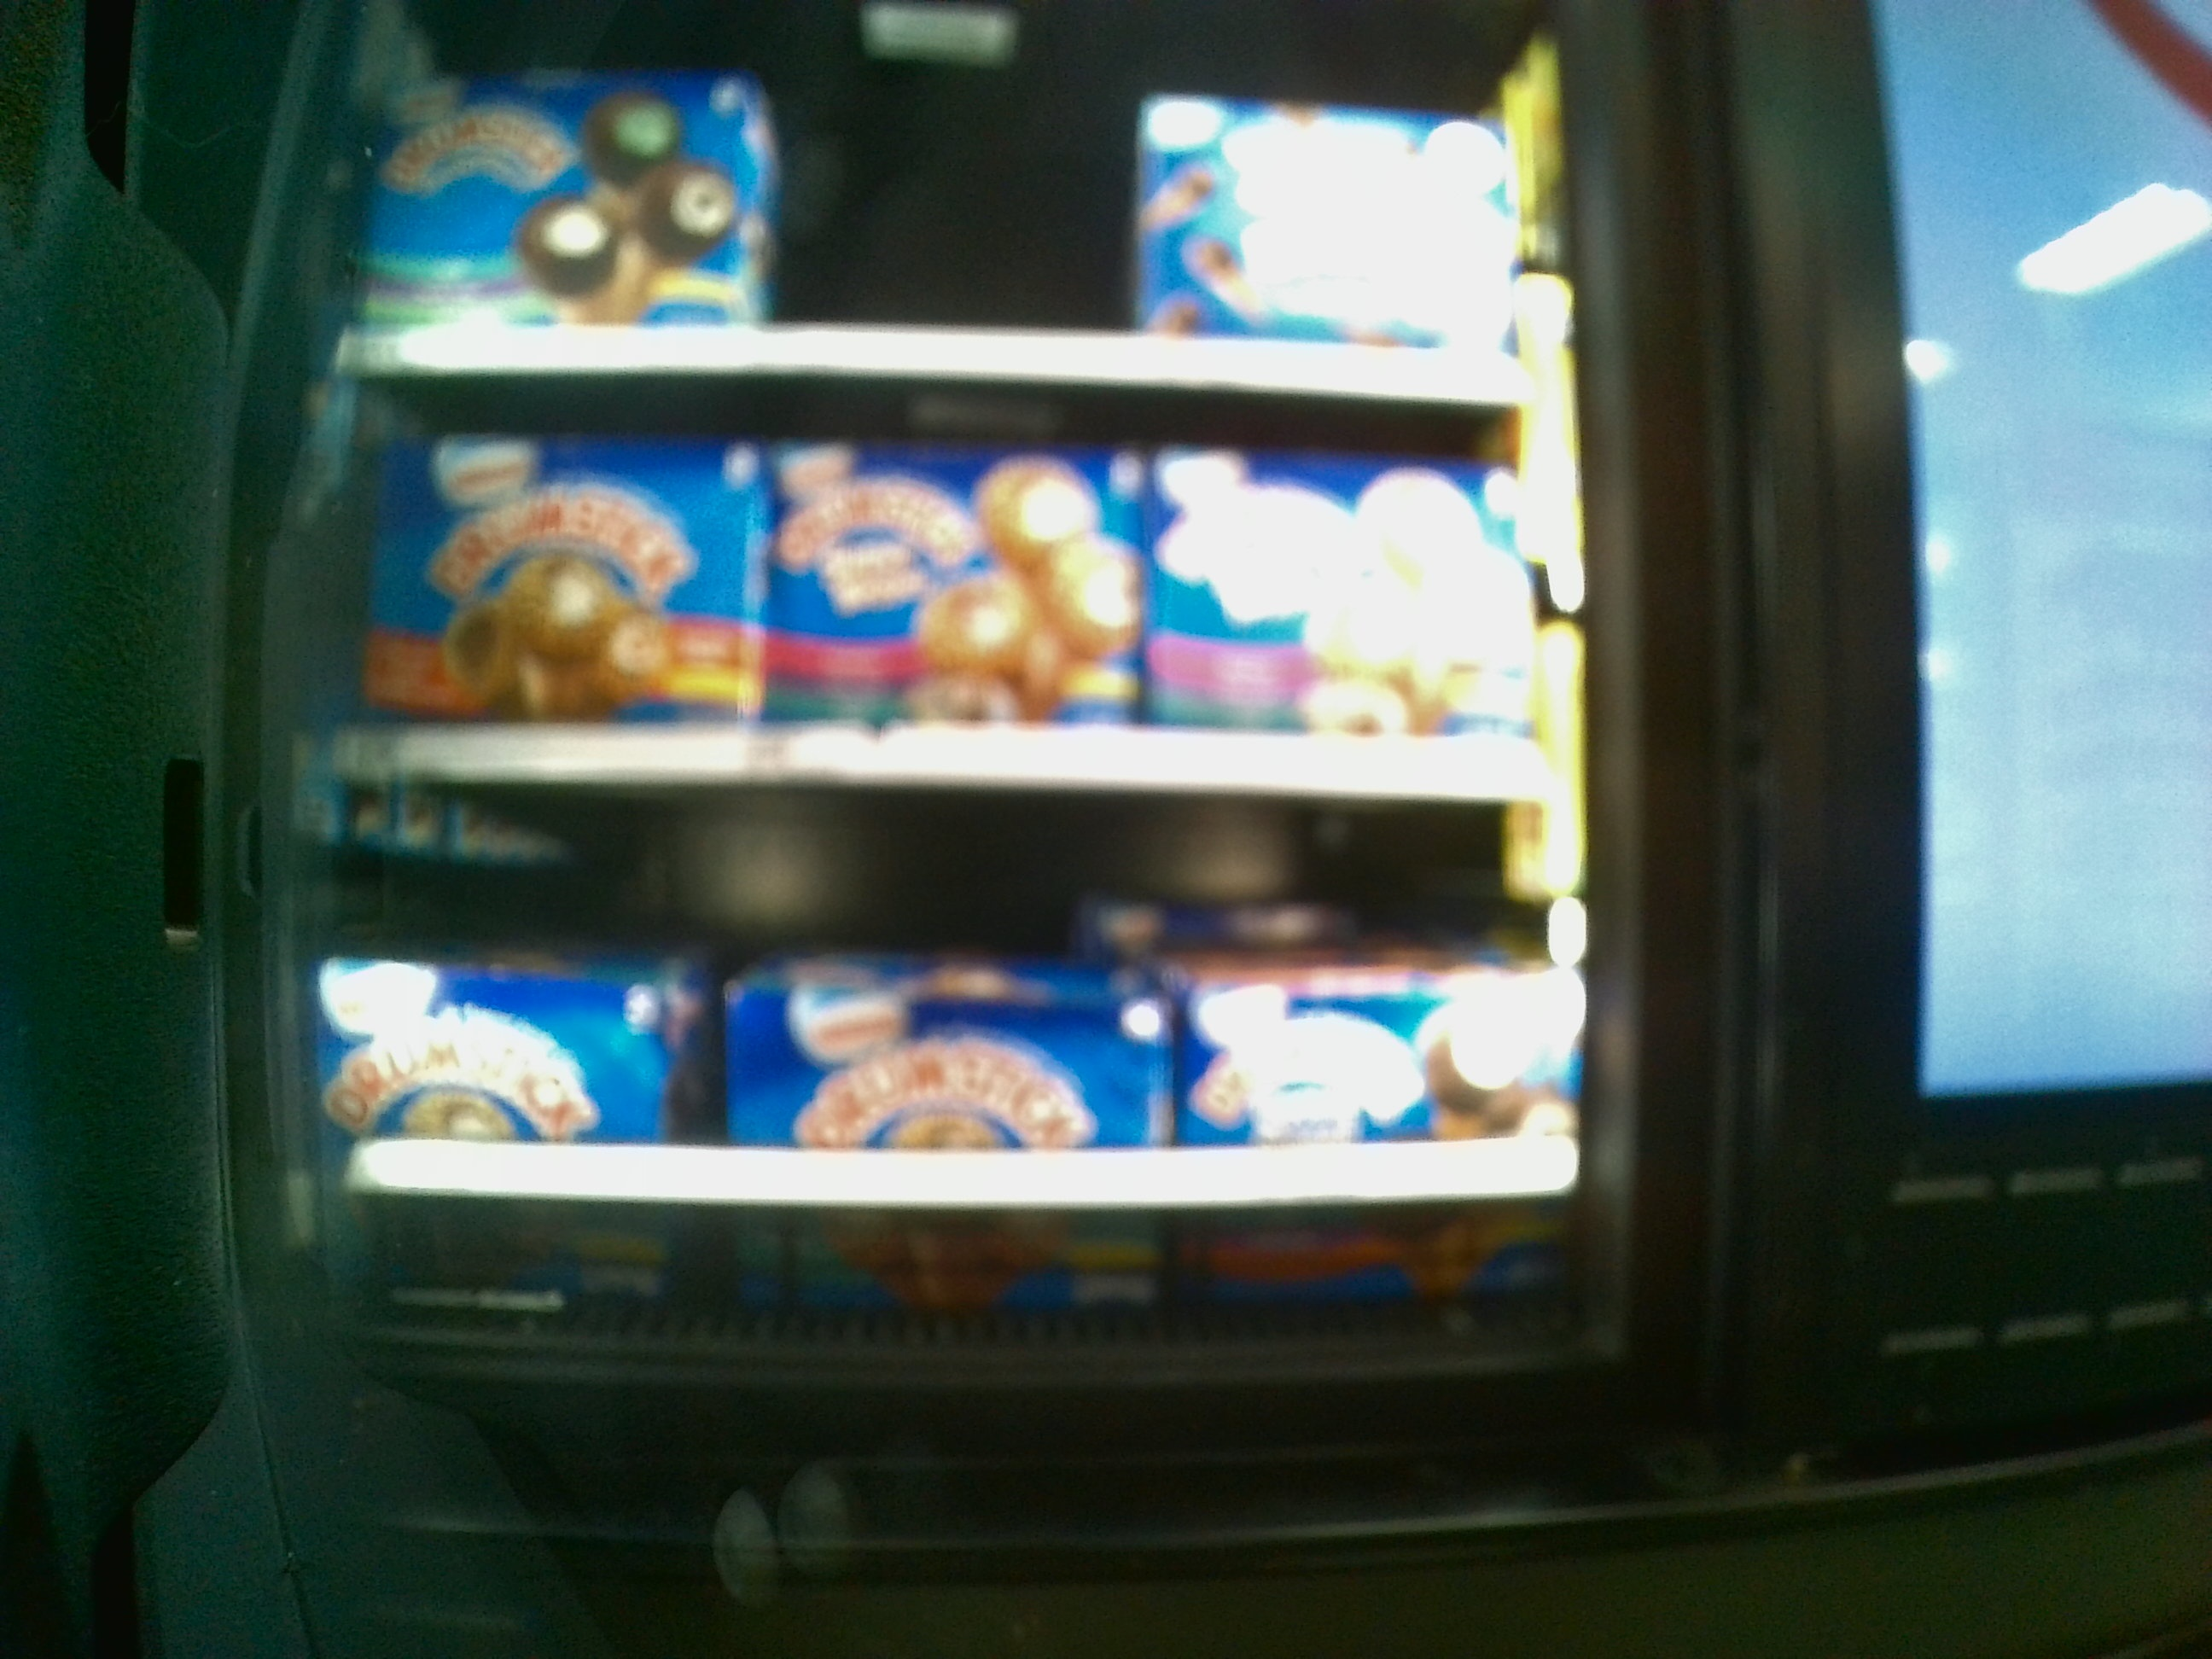shelf: (331, 791, 1576, 1342), (331, 396, 1566, 788), (347, 16, 1555, 394)
